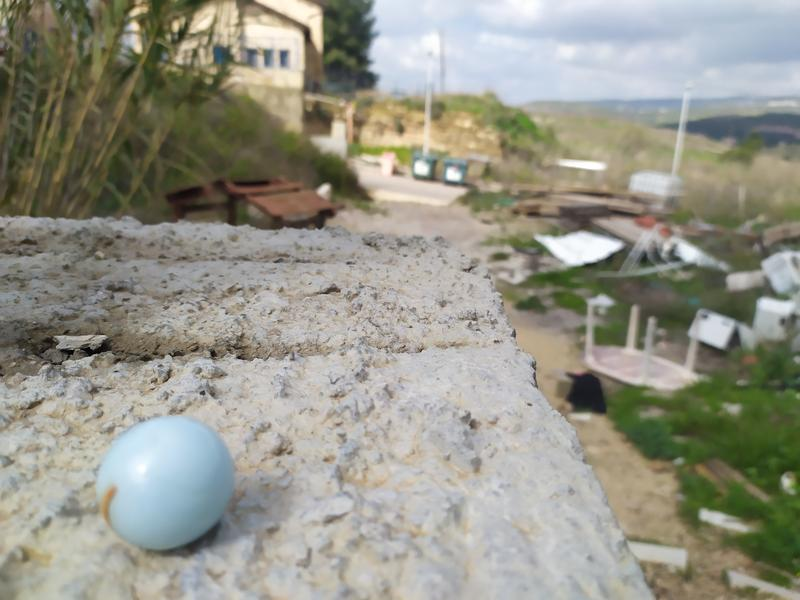Warning: (92, 411, 240, 555)
